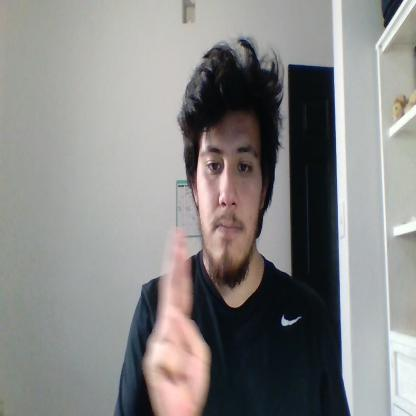R: (142, 227, 210, 416)
